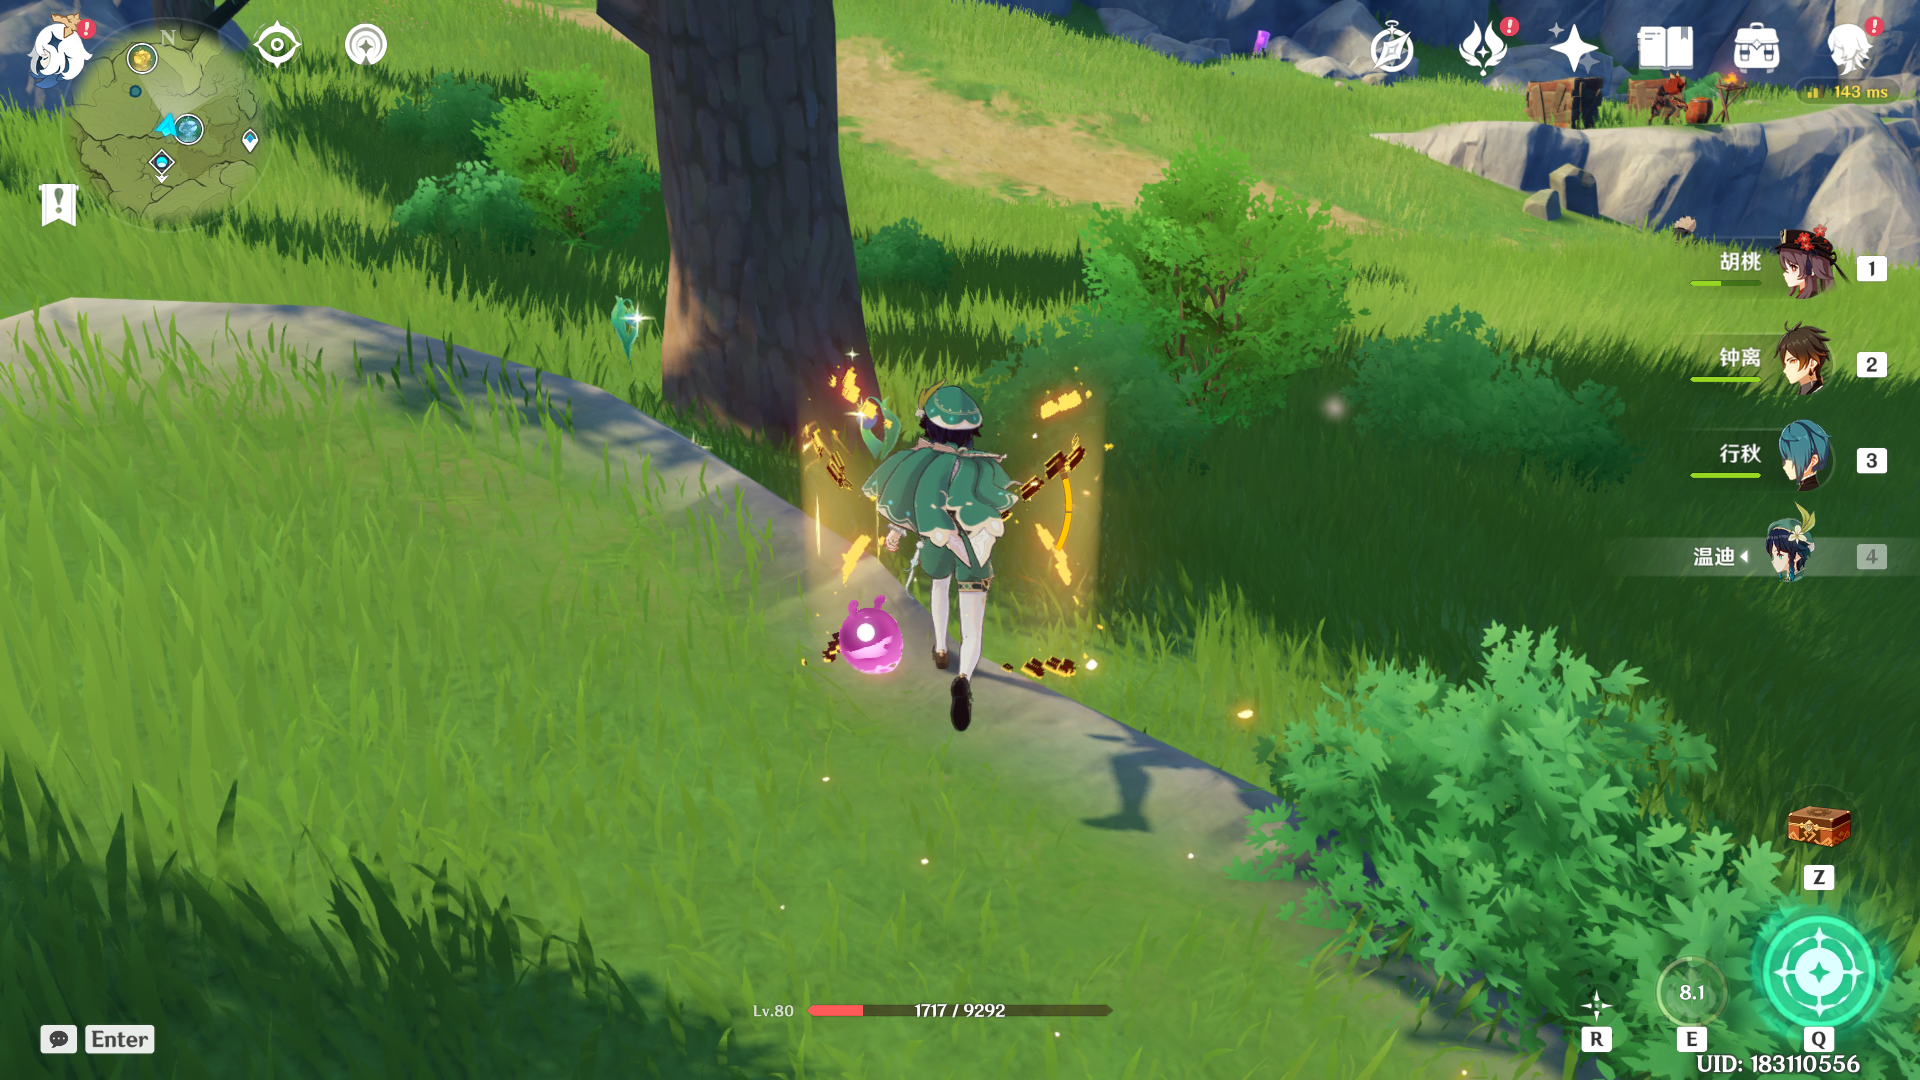character: (769, 334, 1093, 781)
